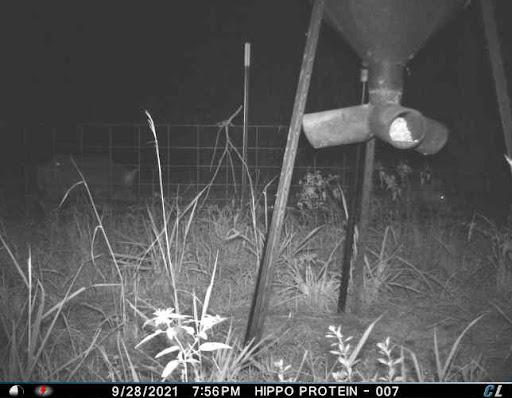Hog: (34, 144, 141, 217)
